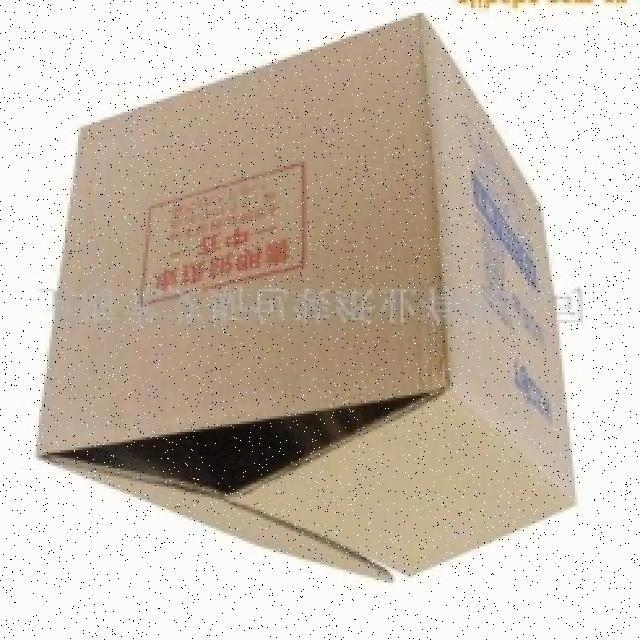box: (46, 19, 584, 576)
